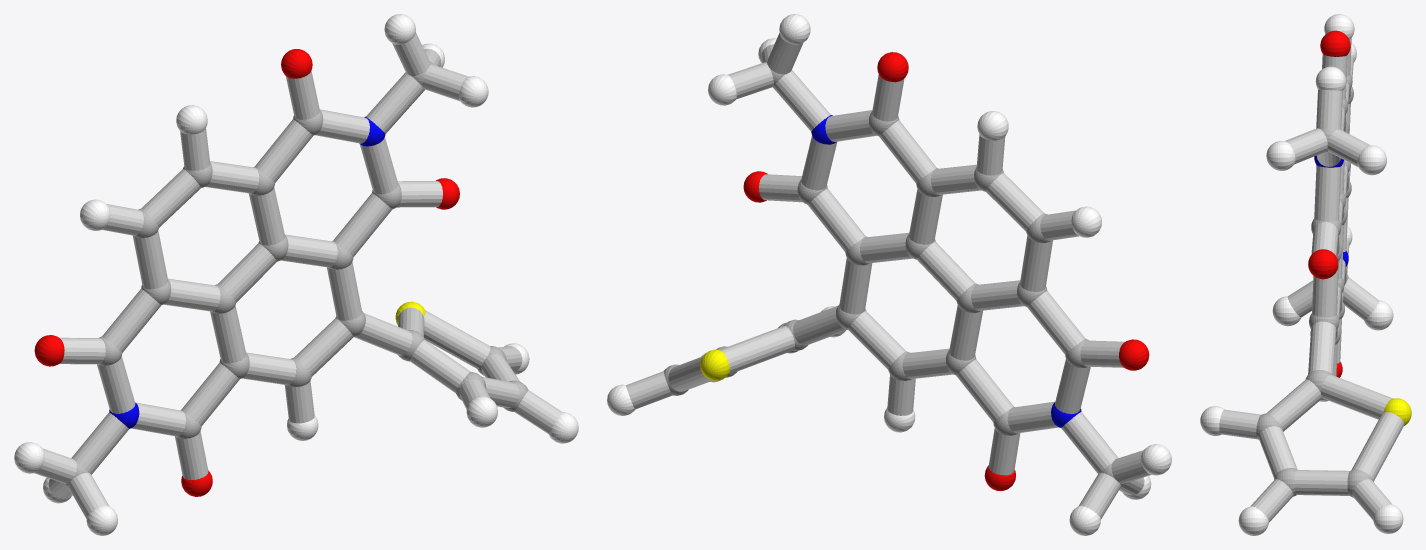
The model's file is Dimethyl_Naphthalene_Dicarboximide_Phi_0_Theta_100_Thiophene.glb.
The picture shows the model from 3 angles, left to right: view 1: azimuth 30°, elevation 25°; view 2: azimuth 150°, elevation 25°; view 3: azimuth 270°, elevation 25°; orthographic projection. The views are drawn at different scales.
Parts seen in each view (by area): view 1: grp14119, grp7241, grp1, grp12309, grp11585; view 2: grp14119, grp7241, grp1, grp12309, grp13757, grp11585; view 3: grp14119, grp7241, grp1, grp12309, grp13757.
Boxes of the visible parts, bbox=[...] form: grp14119: bbox=[34, 32, 562, 518]; grp7241: bbox=[14, 14, 578, 535]; grp1: bbox=[63, 61, 528, 486]; grp12309: bbox=[34, 49, 459, 496]; grp11585: bbox=[109, 116, 385, 428]; grp14119: bbox=[626, 33, 1151, 518]; grp7241: bbox=[607, 14, 1171, 535]; grp1: bbox=[663, 59, 1125, 486]; grp12309: bbox=[743, 52, 1149, 490]; grp13757: bbox=[700, 349, 729, 380]; grp11585: bbox=[811, 115, 1081, 427]; grp14119: bbox=[1219, 38, 1404, 522]; grp7241: bbox=[1200, 14, 1403, 535]; grp1: bbox=[1256, 74, 1373, 497]; grp12309: bbox=[1308, 30, 1350, 377]; grp13757: bbox=[1383, 398, 1411, 425].
Size of the model in its own units: 11.77 by 8.96 by 4.18.
